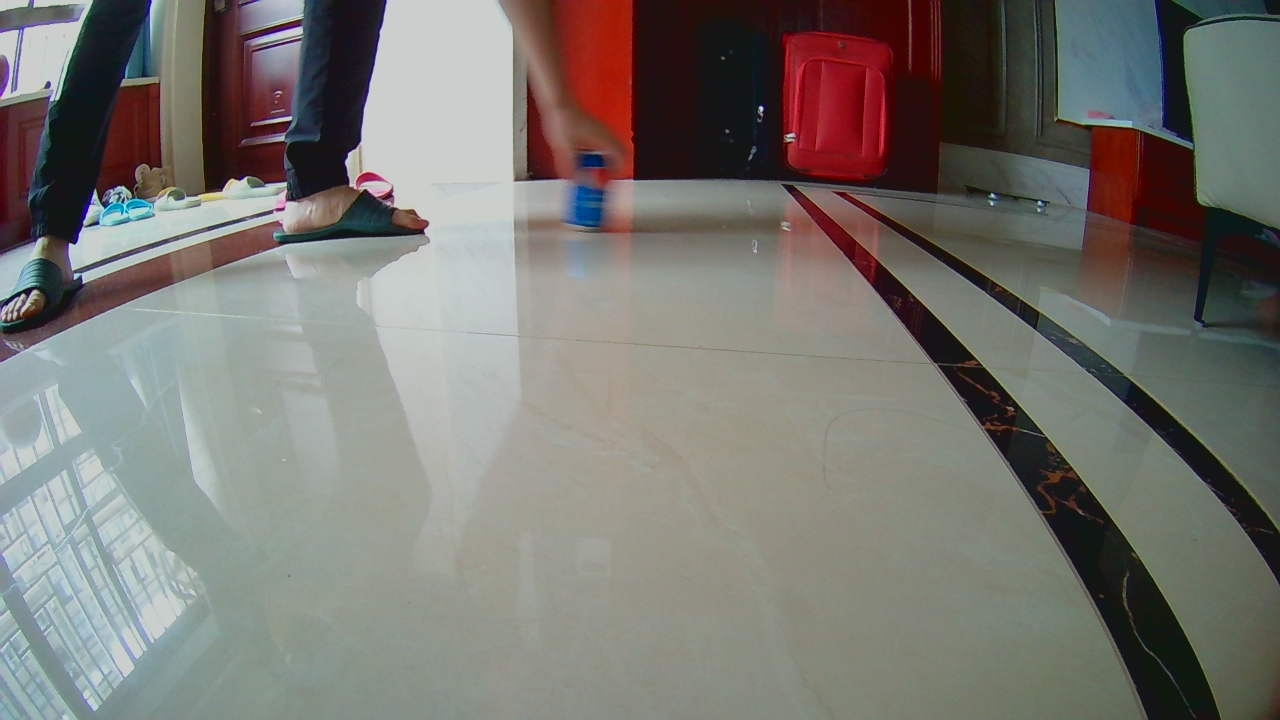pessi: (567, 154, 609, 227)
